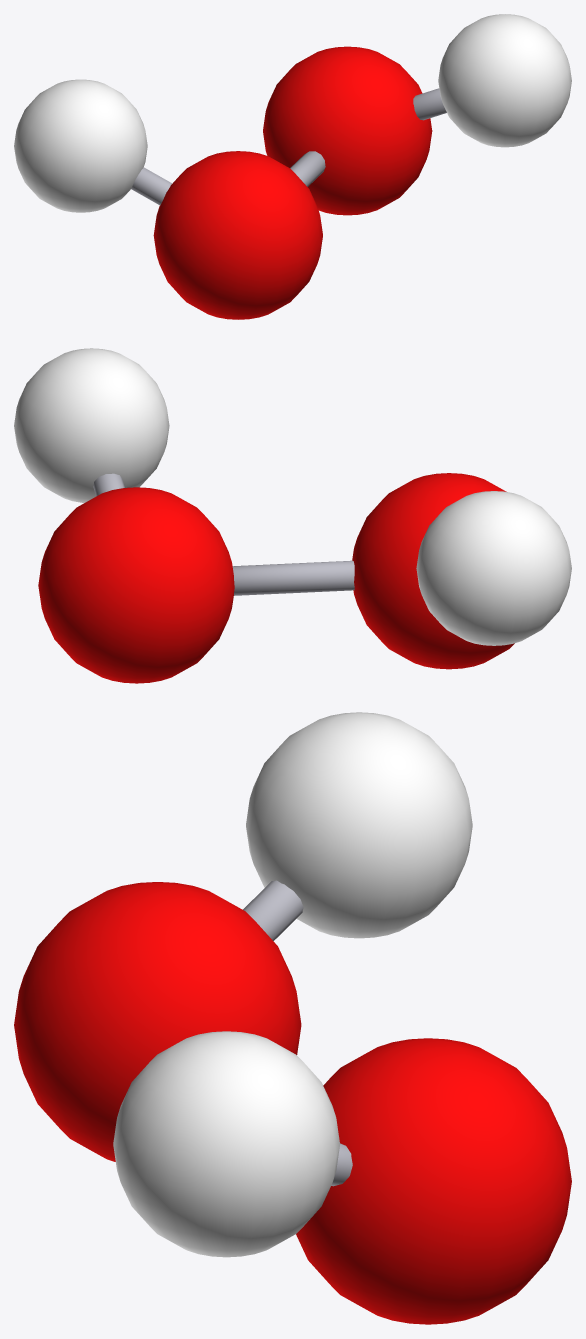
Rendered from hydrogen-peroxide.glb.
The picture shows the model from 3 angles, top to bottom: view 1: azimuth 30°, elevation 25°; view 2: azimuth 150°, elevation 25°; view 3: azimuth 270°, elevation 25°; orthographic projection. The views are drawn at different scales.
Visible parts, largest first — view 1: O1, O0, H2, H3, bond2-0, bond0-0, bond1-0; view 2: O0, H3, H2, O1, bond0-0, bond1-0; view 3: O0, O1, H2, H3, bond2-0.
Boxes of the visible parts, bbox=[...] form: O1: bbox=[153, 151, 322, 319]; O0: bbox=[263, 46, 432, 215]; H2: bbox=[438, 14, 571, 147]; H3: bbox=[14, 79, 147, 212]; bond2-0: bbox=[131, 167, 172, 205]; bond0-0: bbox=[290, 151, 325, 186]; bond1-0: bbox=[413, 88, 446, 120]; O0: bbox=[38, 487, 234, 683]; H3: bbox=[416, 491, 571, 645]; H2: bbox=[14, 348, 169, 502]; O1: bbox=[352, 473, 514, 669]; bond0-0: bbox=[232, 560, 354, 595]; bond1-0: bbox=[93, 473, 124, 496]; O0: bbox=[296, 1038, 571, 1324]; O1: bbox=[14, 882, 301, 1161]; H2: bbox=[113, 1031, 339, 1257]; H3: bbox=[246, 712, 472, 938]; bond2-0: bbox=[243, 880, 303, 940].
Bounding box in the file's own units: 3.11 × 1.23 × 1.77.
